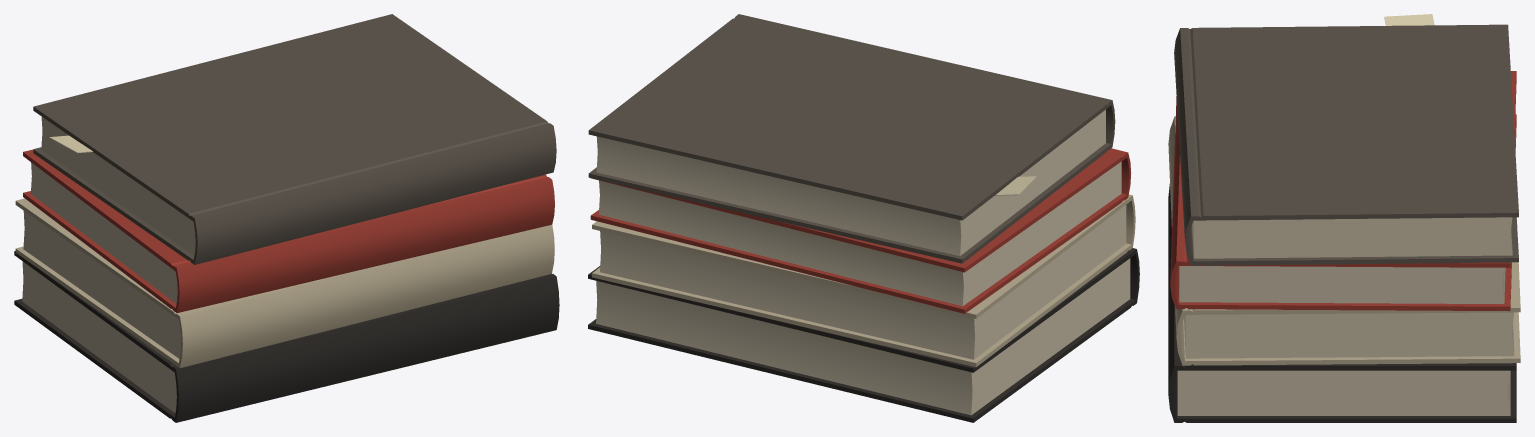
The model's file is book-stack-0cda49d4442c.glb.
3 renders of one model, left to right at view 1: azimuth 30°, elevation 25°; view 2: azimuth 150°, elevation 25°; view 3: azimuth 270°, elevation 25°, orthographic. The views are drawn at different scales.
Visible parts, largest first — view 1: fabric, speaker-cloth, enamel-beige, paper, accent-warm; view 2: paper, fabric, accent-warm, enamel-beige, speaker-cloth; view 3: fabric, paper, speaker-cloth, accent-warm, enamel-beige, dial-cream.
Part boxes in pixels (x1,y1,x2,y2): fabric: (33,14,556,264); speaker-cloth: (14,251,559,422); enamel-beige: (15,198,554,367); paper: (22,117,195,413); accent-warm: (23,149,554,312); paper: (596,109,1130,415); fabric: (588,14,1115,263); accent-warm: (590,148,1131,313); enamel-beige: (592,194,1135,367); speaker-cloth: (588,248,1139,422); fabric: (1174,24,1518,265); paper: (1177,217,1514,415); speaker-cloth: (1168,184,1516,422); accent-warm: (1170,71,1516,311); enamel-beige: (1168,116,1520,365); dial-cream: (1384,14,1434,25).
Size of the model in its own units: 0.2359 by 0.1142 by 0.174.
